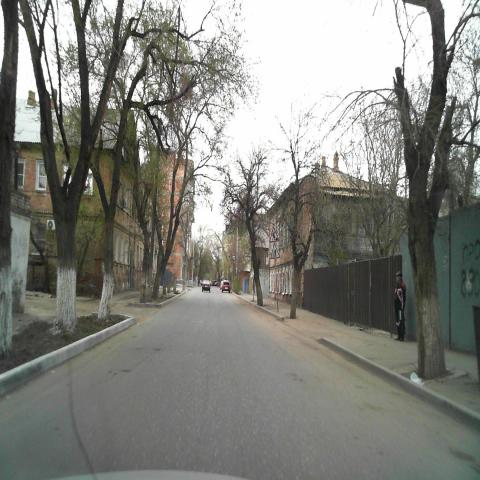1_20_3: (270, 242, 280, 258)
